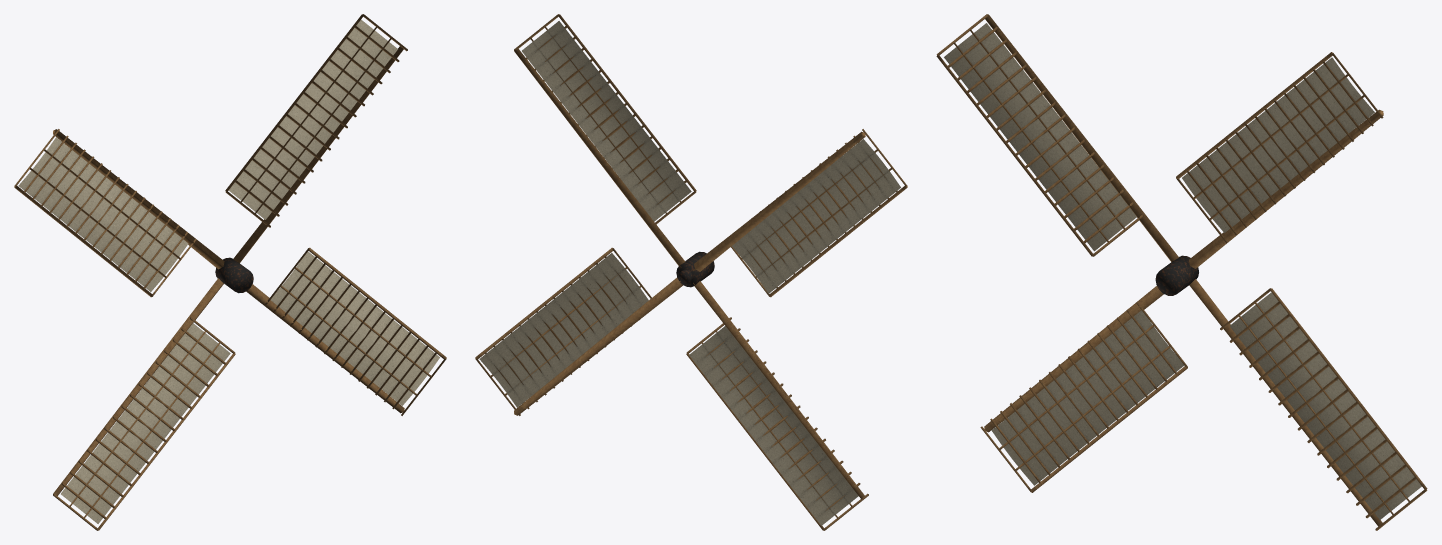
The model's file is windmill_sails.obj.
3 views of the same model, side by side, from view 1: azimuth 30°, elevation 25°; view 2: azimuth 150°, elevation 25°; view 3: azimuth 330°, elevation 25° (orthographic). The views are drawn at different scales.
Parts seen in each view (by area): view 1: part2, part0, part1; view 2: part2, part0, part1; view 3: part2, part0, part1.
Part boxes in pixels (left/top/right/bottom): part2: left=18, top=19, right=439, bottom=523; part0: left=14, top=14, right=446, bottom=530; part1: left=215, top=257, right=253, bottom=293; part2: left=479, top=21, right=900, bottom=525; part0: left=475, top=14, right=907, bottom=530; part1: left=676, top=251, right=714, bottom=287; part2: left=944, top=23, right=1421, bottom=519; part0: left=936, top=14, right=1427, bottom=530; part1: left=1155, top=255, right=1198, bottom=295.
Bounding box in the file's own units: 21.45 × 21.45 × 1.65.
